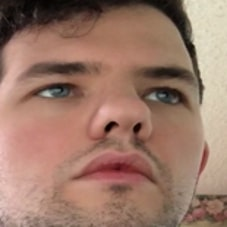awake: (14, 51, 199, 227)
